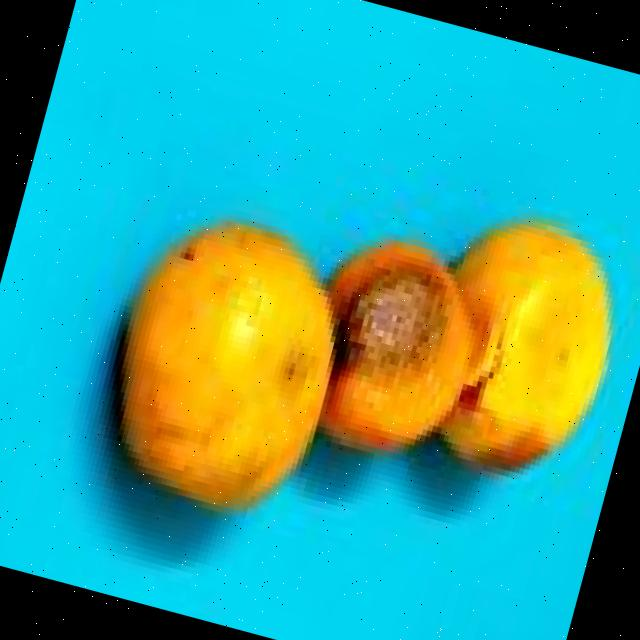Bad_Orange-0-1 day: (430, 222, 610, 465), (314, 248, 473, 445)
